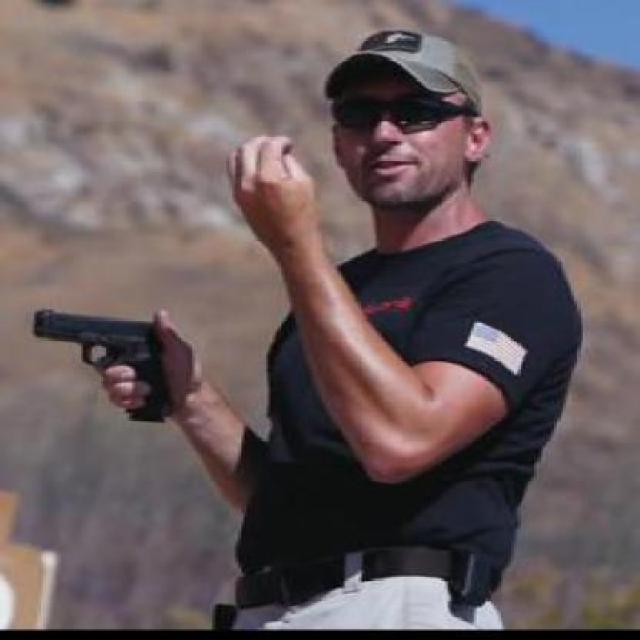gun: (22, 306, 176, 422)
